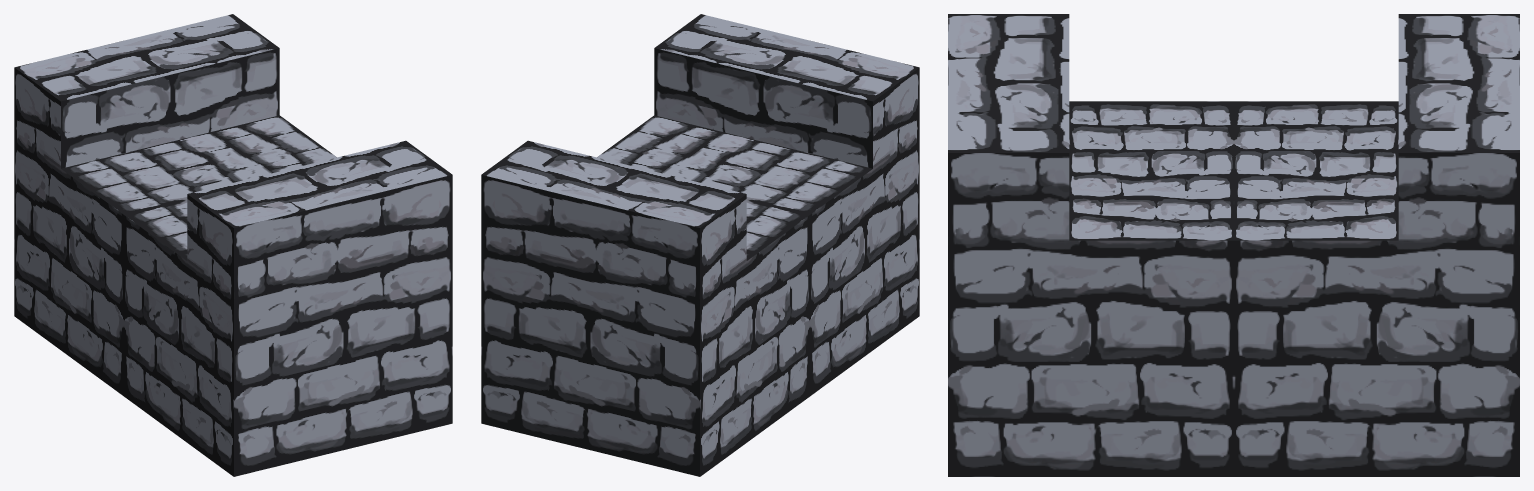
Rendered from shelf.fbx.
3 renders of one model, left to right at view 1: azimuth 30°, elevation 25°; view 2: azimuth 150°, elevation 25°; view 3: azimuth 270°, elevation 25°, orthographic. The views are drawn at different scales.
Visible parts, largest first — view 1: pCube3; view 2: pCube3; view 3: pCube3.
Part boxes in pixels (x1=…): pCube3: x1=14, y1=14, x2=452, y2=476; pCube3: x1=481, y1=14, x2=919, y2=476; pCube3: x1=948, y1=14, x2=1519, y2=476.
Size of the model in its own units: 2.33 by 2.53 by 4.06.
Materials: 1 (1 with a texture image).
